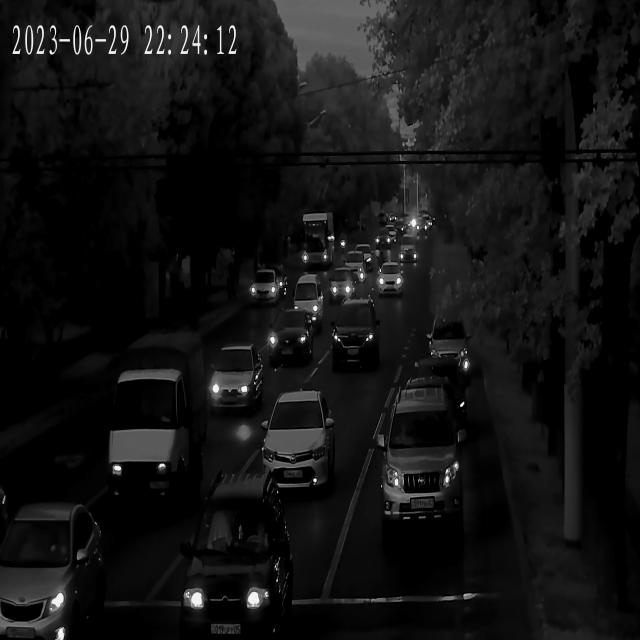Bus: (297, 209, 333, 265)
Car: (182, 486, 292, 638), (2, 498, 108, 640), (376, 387, 467, 528), (254, 392, 336, 496), (207, 345, 267, 417), (398, 376, 467, 432), (330, 302, 383, 370), (265, 312, 316, 364), (403, 355, 466, 397), (420, 335, 472, 382), (284, 277, 323, 331), (248, 274, 285, 308), (324, 270, 359, 302), (376, 266, 406, 298), (336, 261, 366, 287), (349, 243, 374, 272), (373, 231, 394, 251), (398, 244, 419, 264)
Truck: (102, 350, 202, 519)
